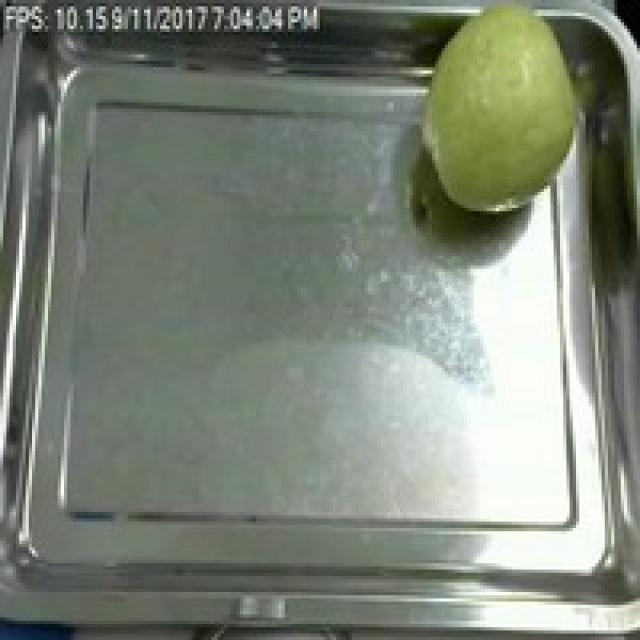Fruit: (403, 0, 618, 227)
